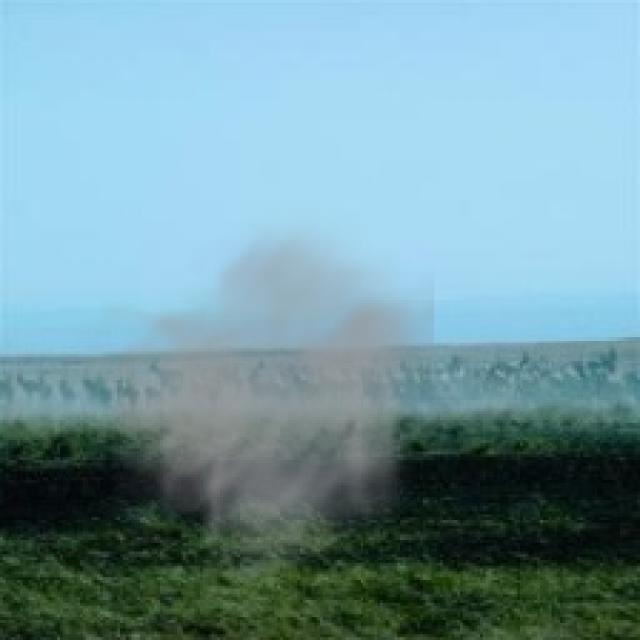smoke: (72, 208, 434, 592)
